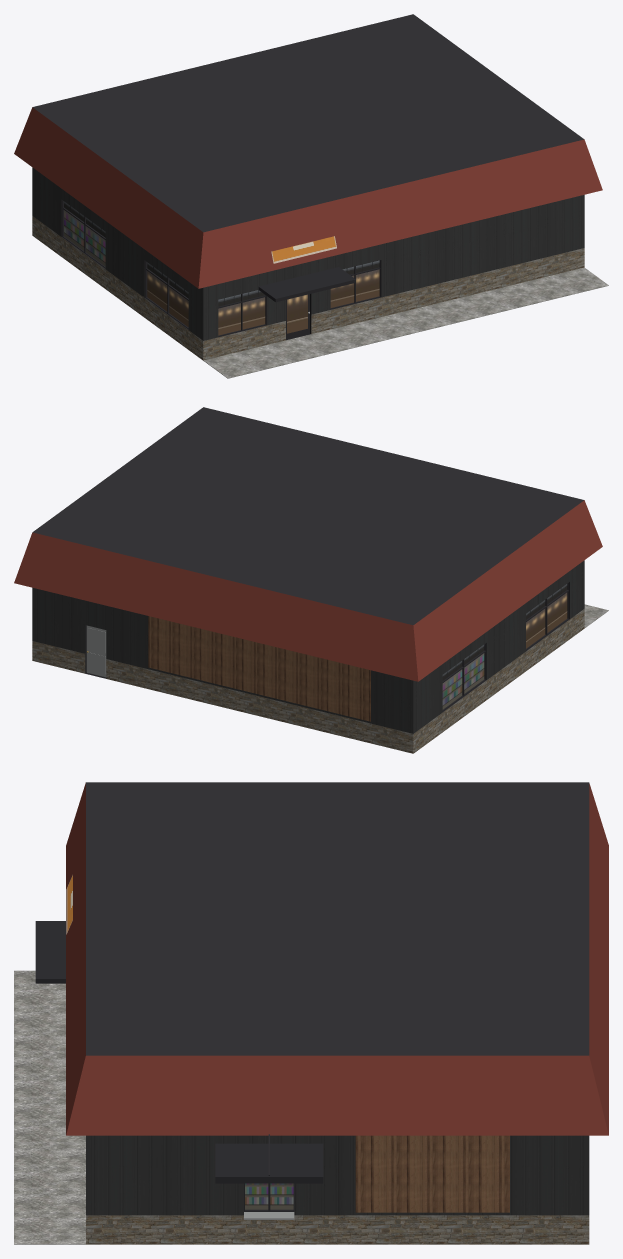
Rendered from town_fastfood 2.gltf.
3 views of the same model, one above another, from view 1: azimuth 30°, elevation 25°; view 2: azimuth 150°, elevation 25°; view 3: azimuth 270°, elevation 25° (orthographic). The views are drawn at different scales.
Visible parts, largest first — view 1: TownFastFood_RoofDeckTop, TownFastFood_Band, TownFastFood_Walls, TownFastFood_Base, TownFastFood_Walk, TownFastFood_Window, TownFastFood_Awning, TownFastFood_Frames, TownFastFood_Sign_Glow, TownFastFood_Door_1_Glass, TownFastFood_Reveals; view 2: TownFastFood_RoofDeckTop, TownFastFood_Band, TownFastFood_Walls, TownFastFood_Cedar, TownFastFood_Base, TownFastFood_Window, TownFastFood_Door_2_Leaf, TownFastFood_Frames; view 3: TownFastFood_RoofDeckTop, TownFastFood_Band, TownFastFood_Walls, TownFastFood_Walk, TownFastFood_Base, TownFastFood_Cedar, TownFastFood_DTCanopy, TownFastFood_Awning, TownFastFood_Window.
Boxes of the visible parts, x1,y1,x2,y2 form: TownFastFood_RoofDeckTop: [32, 14, 584, 232]; TownFastFood_Band: [14, 107, 602, 288]; TownFastFood_Walls: [32, 167, 584, 340]; TownFastFood_Base: [32, 216, 584, 360]; TownFastFood_Walk: [203, 267, 608, 378]; TownFastFood_Window: [64, 201, 379, 335]; TownFastFood_Awning: [258, 267, 355, 302]; TownFastFood_Frames: [62, 200, 380, 336]; TownFastFood_Sign_Glow: [271, 236, 336, 263]; TownFastFood_Door_1_Glass: [287, 294, 307, 333]; TownFastFood_Reveals: [61, 200, 381, 340]; TownFastFood_RoofDeckTop: [32, 407, 583, 625]; TownFastFood_Band: [14, 500, 602, 681]; TownFastFood_Walls: [32, 560, 584, 733]; TownFastFood_Cedar: [148, 616, 370, 721]; TownFastFood_Base: [32, 609, 584, 753]; TownFastFood_Window: [442, 584, 567, 709]; TownFastFood_Door_2_Leaf: [86, 625, 106, 677]; TownFastFood_Frames: [442, 582, 568, 711]; TownFastFood_RoofDeckTop: [86, 782, 589, 1055]; TownFastFood_Band: [66, 782, 608, 1135]; TownFastFood_Walls: [86, 1135, 589, 1215]; TownFastFood_Walk: [14, 970, 85, 1244]; TownFastFood_Base: [86, 1215, 589, 1244]; TownFastFood_Cedar: [355, 1135, 509, 1212]; TownFastFood_DTCanopy: [215, 1134, 323, 1183]; TownFastFood_Awning: [35, 921, 65, 983]; TownFastFood_Window: [245, 1183, 293, 1209].
Size of what is drawn, in the model's own units: 20.75 by 5.8 by 16.55.
Materials: 2 (2 with a texture image).
